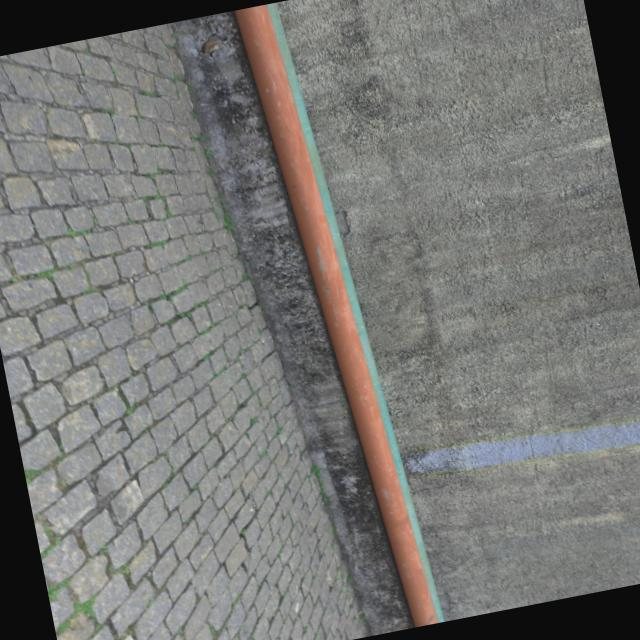gas: (234, 5, 437, 628)
